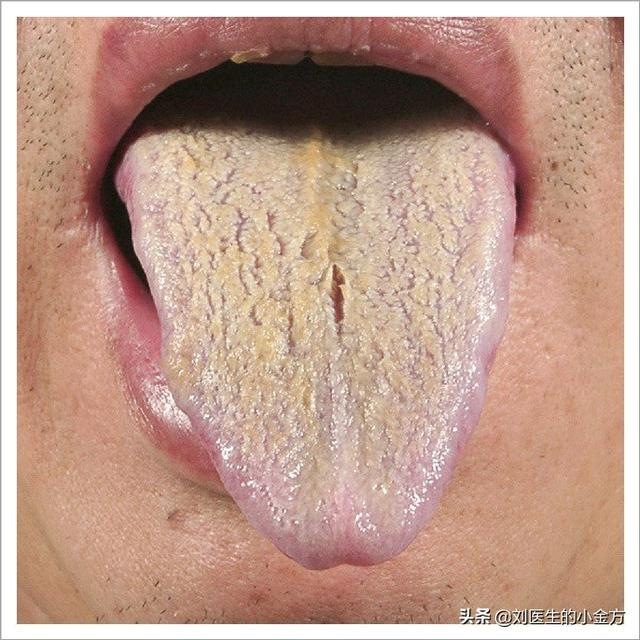tongue: (103, 119, 523, 570)
